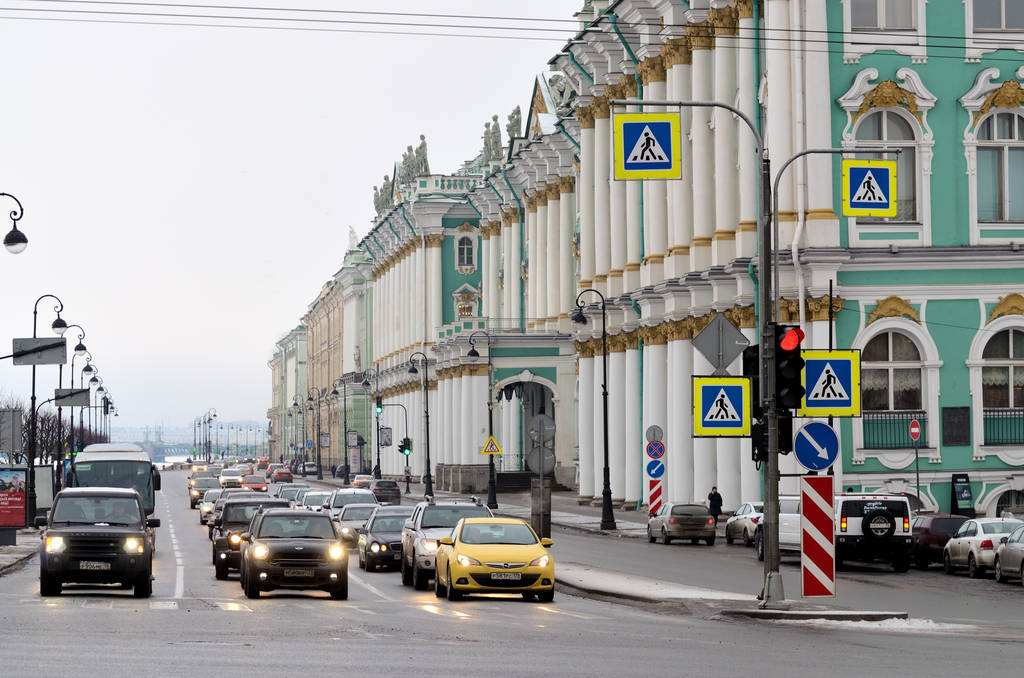red: (772, 319, 809, 413)
